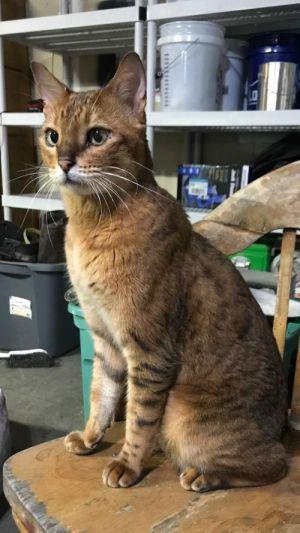bengal: (21, 50, 160, 213)
